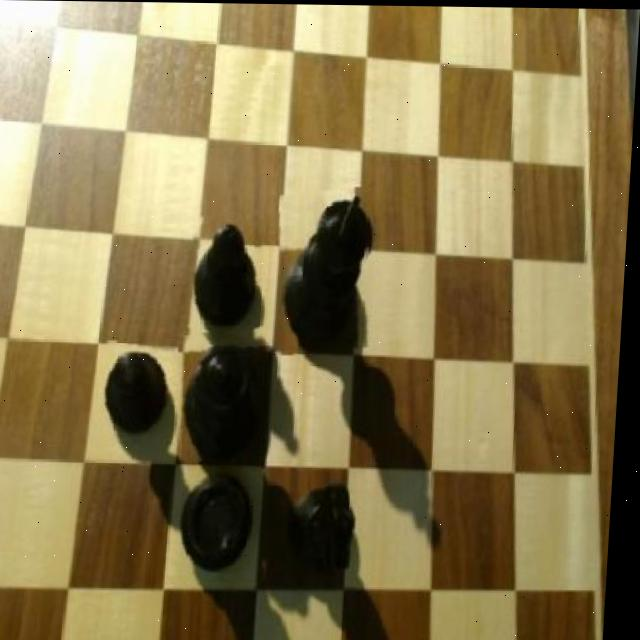bishop: (188, 216, 264, 331)
black-bishop: (276, 186, 377, 353)
black-king: (275, 485, 368, 589)
black-knight: (101, 343, 177, 435)
black-pawn: (179, 330, 276, 464)
black-queen: (180, 461, 266, 573)
